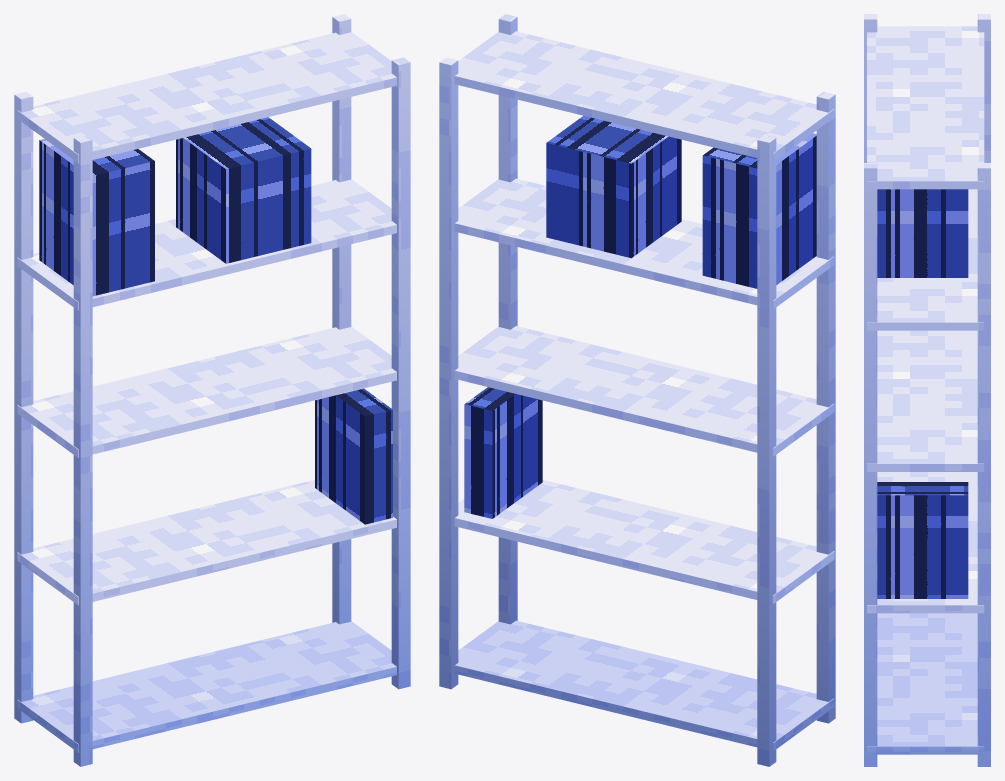
Rendered from furn.shelf.glb.
3 views of the same model, side by side, from view 1: azimuth 30°, elevation 25°; view 2: azimuth 150°, elevation 25°; view 3: azimuth 270°, elevation 25° (orthographic). The views are drawn at different scales.
Parts seen in each view (by area): view 1: kit_shelf_boards, kit_shelf_frame, kit_books; view 2: kit_shelf_boards, kit_shelf_frame, kit_books; view 3: kit_shelf_boards, kit_books, kit_shelf_frame.
Boxes of the visible parts, <box> form: kit_shelf_boards: <box>17,32,396,752</box>; kit_shelf_frame: <box>14,14,410,766</box>; kit_books: <box>39,117,392,524</box>; kit_shelf_boards: <box>454,31,834,751</box>; kit_shelf_frame: <box>439,14,835,766</box>; kit_books: <box>464,115,816,518</box>; kit_shelf_boards: <box>867,26,984,754</box>; kit_books: <box>877,189,968,598</box>; kit_shelf_frame: <box>864,14,990,766</box>.
Bounding box in the file's own units: 1 × 1.8 × 0.346.
Materials: 2 (2 with a texture image).
